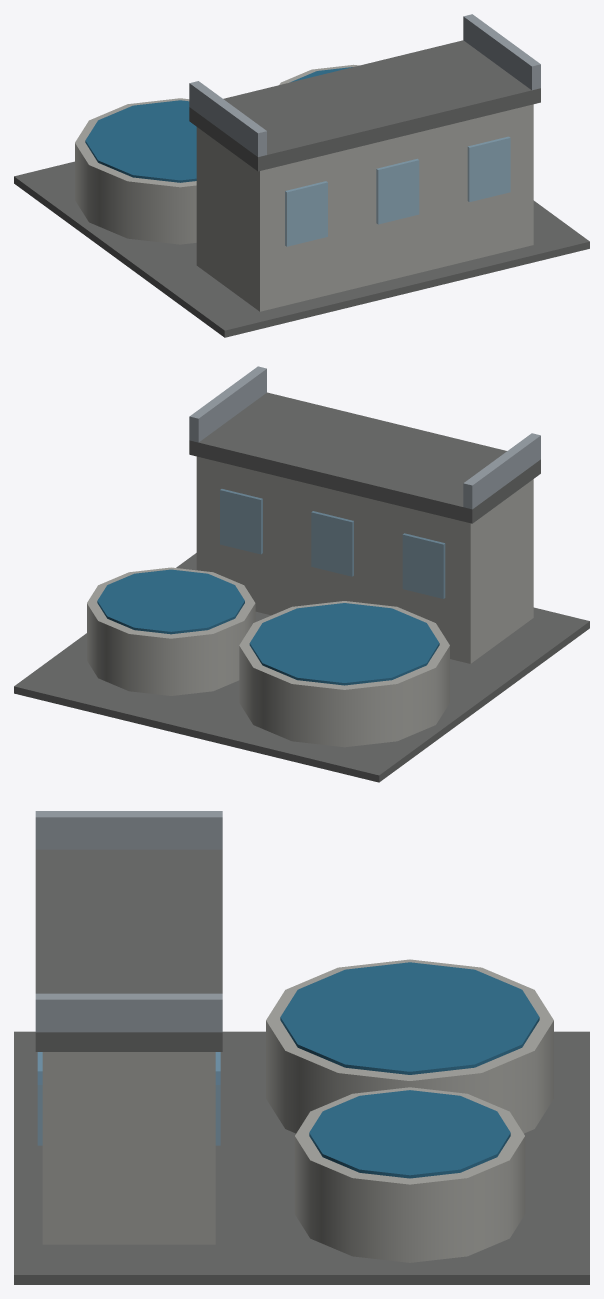
Rendered from bld_special_water_works_a06.glb.
The picture shows the model from 3 angles, top to bottom: view 1: azimuth 30°, elevation 25°; view 2: azimuth 150°, elevation 25°; view 3: azimuth 270°, elevation 25°; orthographic projection. The views are drawn at different scales.
Parts seen in each view (by area): view 1: body; view 2: body; view 3: body.
Part boxes in pixels (bbox=[...]): body: bbox=[14, 14, 589, 337]; body: bbox=[14, 366, 589, 782]; body: bbox=[14, 811, 589, 1284].
Size of what is drawn, in the model's own units: 8 by 3.95 by 8.
